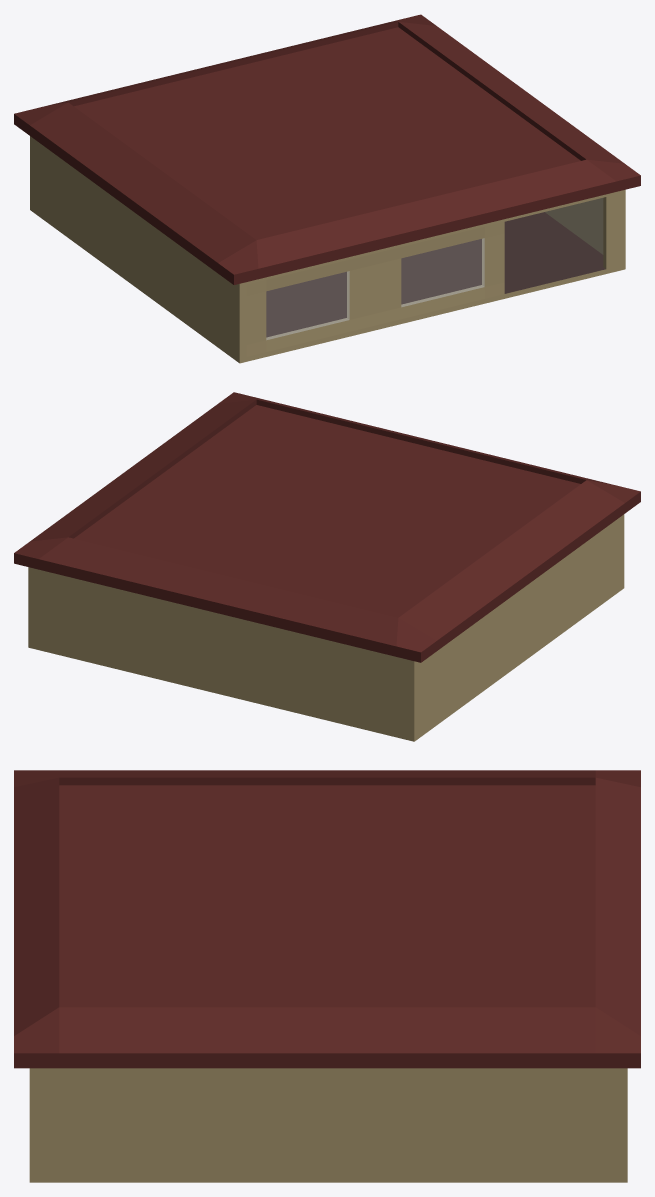
The model's file is store.fbx.
3 renders of one model, top to bottom at view 1: azimuth 30°, elevation 25°; view 2: azimuth 150°, elevation 25°; view 3: azimuth 270°, elevation 25°, orthographic. The views are drawn at different scales.
Parts seen in each view (by area): view 1: store; view 2: store; view 3: store.
Part boxes in pixels (x1,y1,x2,y2): store: (14, 14, 640, 363); store: (14, 392, 640, 741); store: (14, 770, 640, 1182).
Size of the model in its own units: 886 by 227 by 829.
